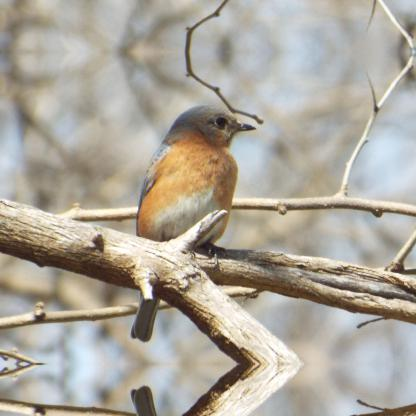Bird: (128, 85, 256, 321)
